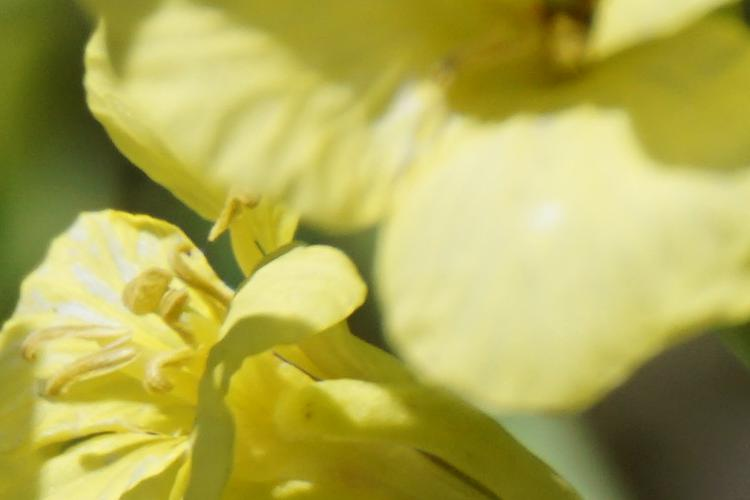yellow: (99, 7, 741, 374), (21, 204, 587, 500)
